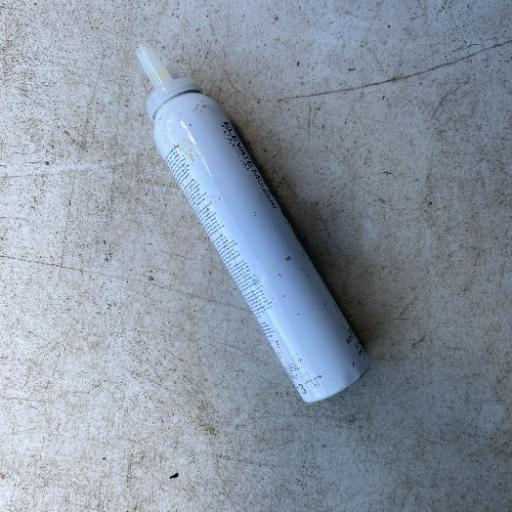Metal: (134, 42, 372, 406)
